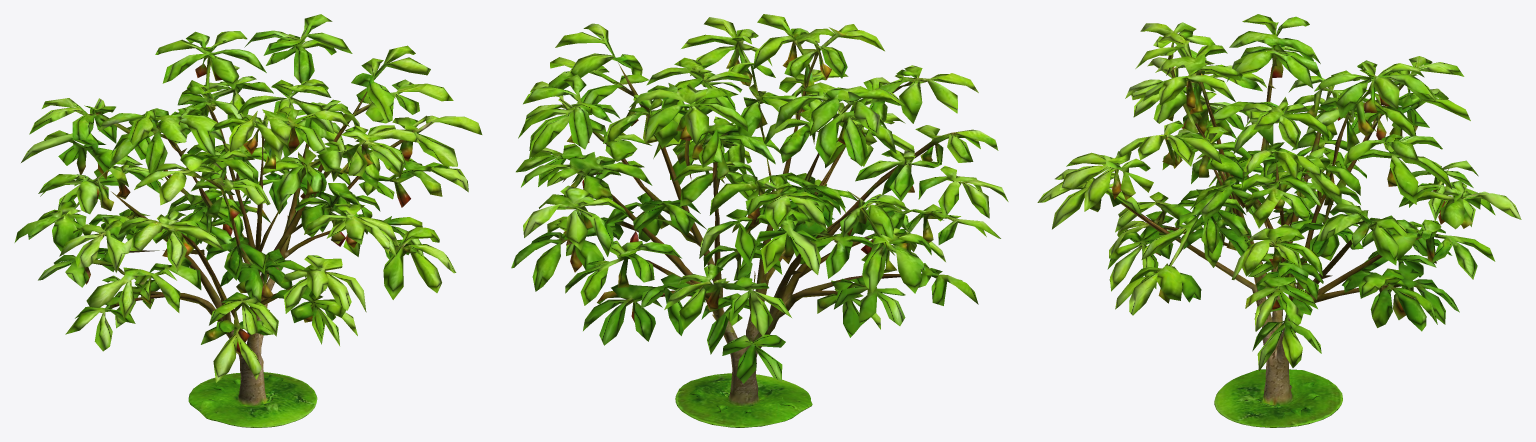
Rendered from pohon-seri.glb.
3 renders of one model, left to right at view 1: azimuth 30°, elevation 25°; view 2: azimuth 150°, elevation 25°; view 3: azimuth 270°, elevation 25°, orthographic. The views are drawn at different scales.
Visible parts, largest first — view 1: pohon; view 2: pohon; view 3: pohon.
Part boxes in pixels (x1=…): pohon: x1=14, y1=14, x2=482, y2=427; pohon: x1=511, y1=14, x2=1008, y2=427; pohon: x1=1037, y1=14, x2=1521, y2=427.
Bounding box in the file's own units: 0.9698 × 0.7244 × 0.924.
1 material, 1 textured.
